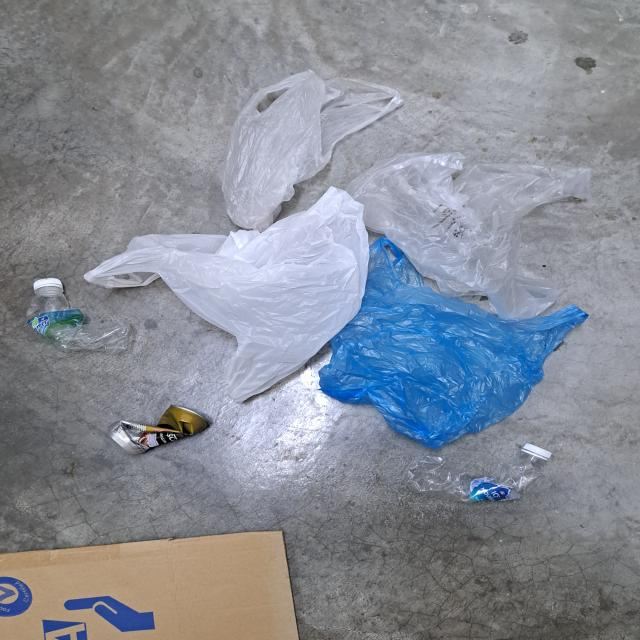can: (106, 404, 211, 456)
cardboard: (0, 527, 303, 640)
plastic bag: (85, 186, 371, 402), (317, 235, 589, 451), (348, 150, 588, 318), (222, 68, 404, 230)
plastic bottle: (406, 452, 544, 503), (25, 288, 128, 354)
plastic bottle cap: (521, 444, 552, 460), (33, 278, 63, 293)
